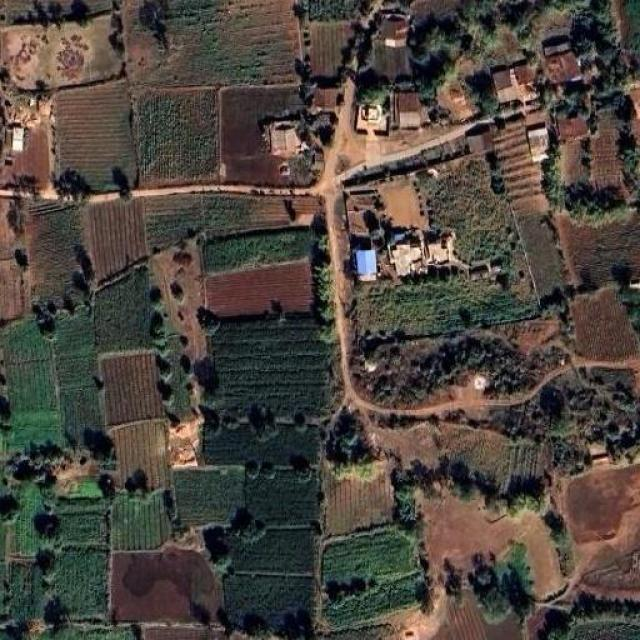land-Sx1C: (348, 256, 545, 348), (124, 0, 300, 86), (419, 495, 564, 599), (411, 152, 520, 269), (211, 315, 329, 416), (131, 191, 321, 253), (152, 239, 210, 431), (560, 464, 640, 601), (322, 528, 421, 627), (54, 80, 136, 191), (221, 87, 311, 187), (2, 16, 122, 89), (110, 544, 222, 622), (134, 88, 218, 187), (440, 422, 549, 492), (54, 498, 109, 620), (552, 210, 640, 286), (54, 306, 102, 443), (205, 259, 314, 318), (219, 85, 302, 161), (561, 464, 640, 543), (488, 116, 549, 218), (28, 201, 90, 300), (220, 578, 314, 640), (516, 215, 575, 311), (84, 198, 148, 284), (324, 460, 394, 536), (5, 484, 42, 620), (202, 422, 319, 465), (2, 319, 56, 412), (570, 288, 639, 360), (94, 265, 151, 352), (99, 350, 164, 426), (202, 228, 311, 272), (242, 465, 318, 528), (172, 466, 244, 529), (109, 419, 169, 488), (428, 595, 522, 639), (230, 526, 314, 572), (364, 421, 438, 468), (111, 492, 171, 549), (0, 121, 50, 189), (0, 196, 25, 321), (374, 182, 437, 228), (590, 109, 621, 189), (311, 21, 354, 77), (8, 410, 65, 452), (556, 116, 590, 186), (370, 42, 419, 82), (563, 618, 639, 640), (0, 260, 24, 321), (411, 0, 461, 17)
